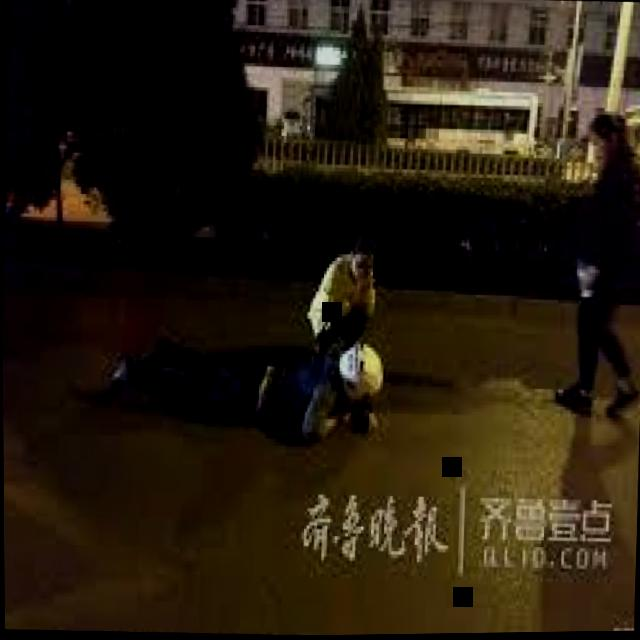Fall-Detected: (78, 293, 388, 456)
